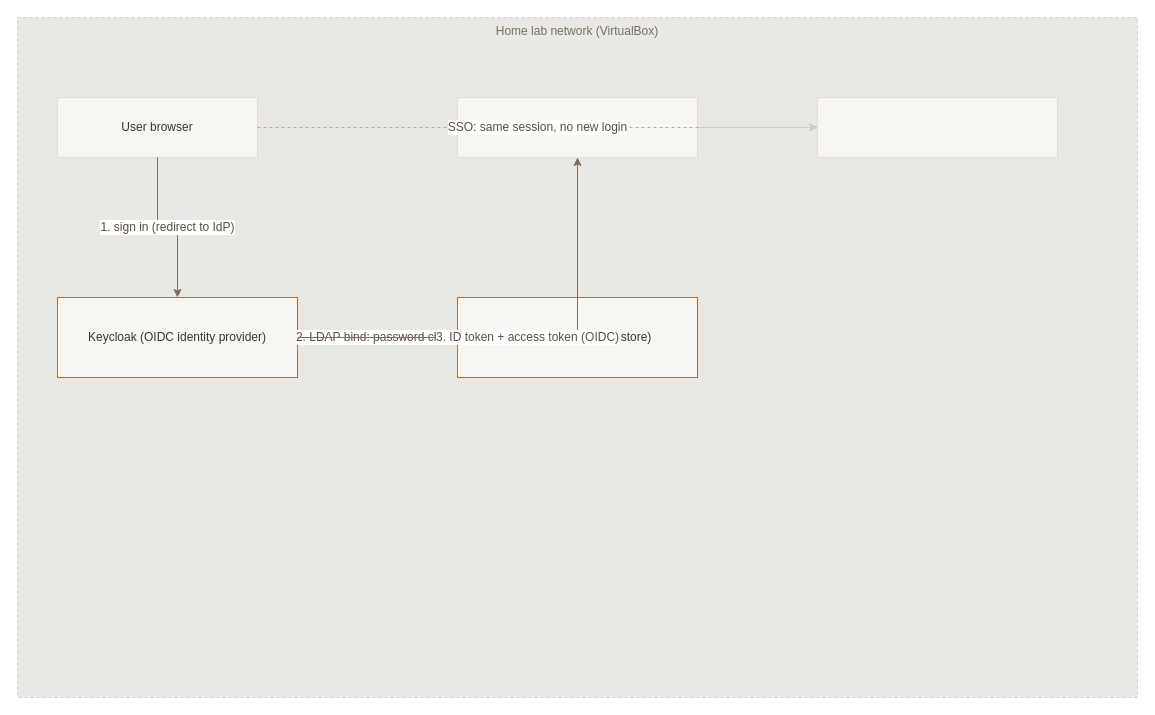
The diagram is 1155 pixels wide and 715 high, and some of its shapes have lost their labels. The shapes that lost their labels are listed below. From the top down, each one's centre as x and y in pixels, then its label:
point (577, 127): Application 1 (OIDC client)
point (937, 127): Application 2 (OIDC client)
